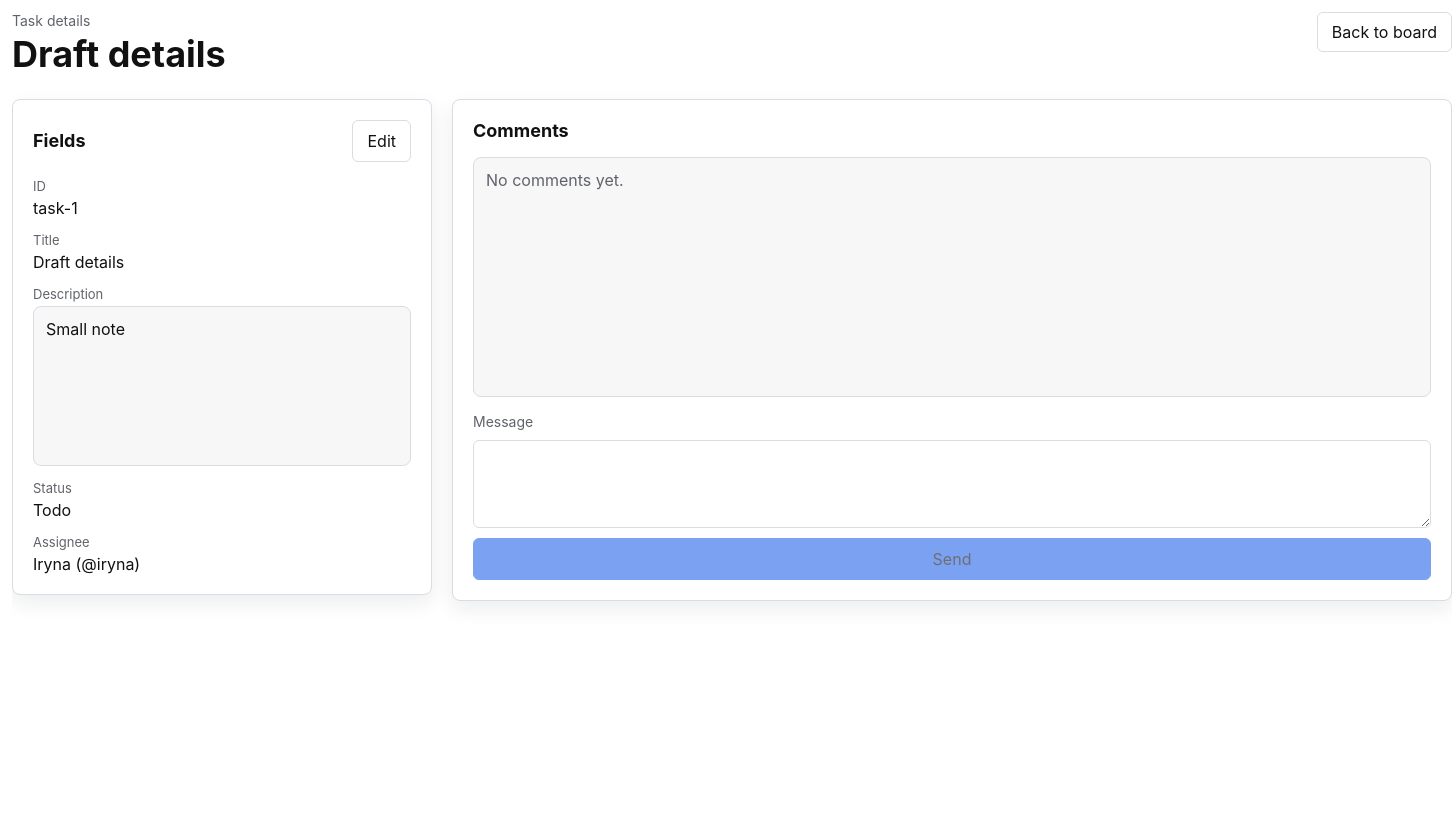
Test: a team member can edit title description and assignee from task details
Expected: the heading "Draft details" is shown, [12,35,226,75]
Click the button "Edit".
click(382, 141)  # box [352,120,411,162]
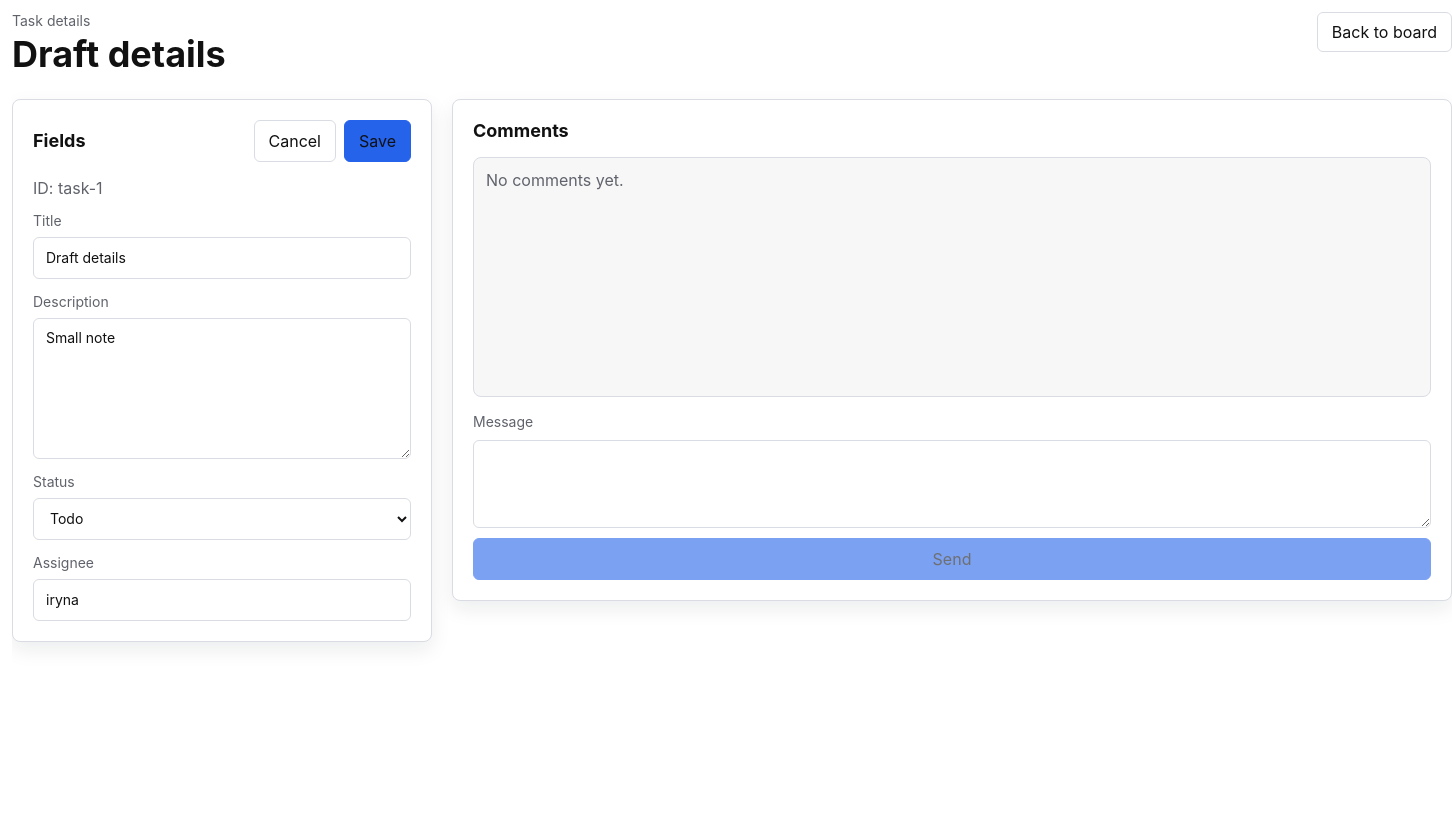
Replace the text in the field named "Edit title" with "Ready details" at [222, 258], box [33,237,411,279]
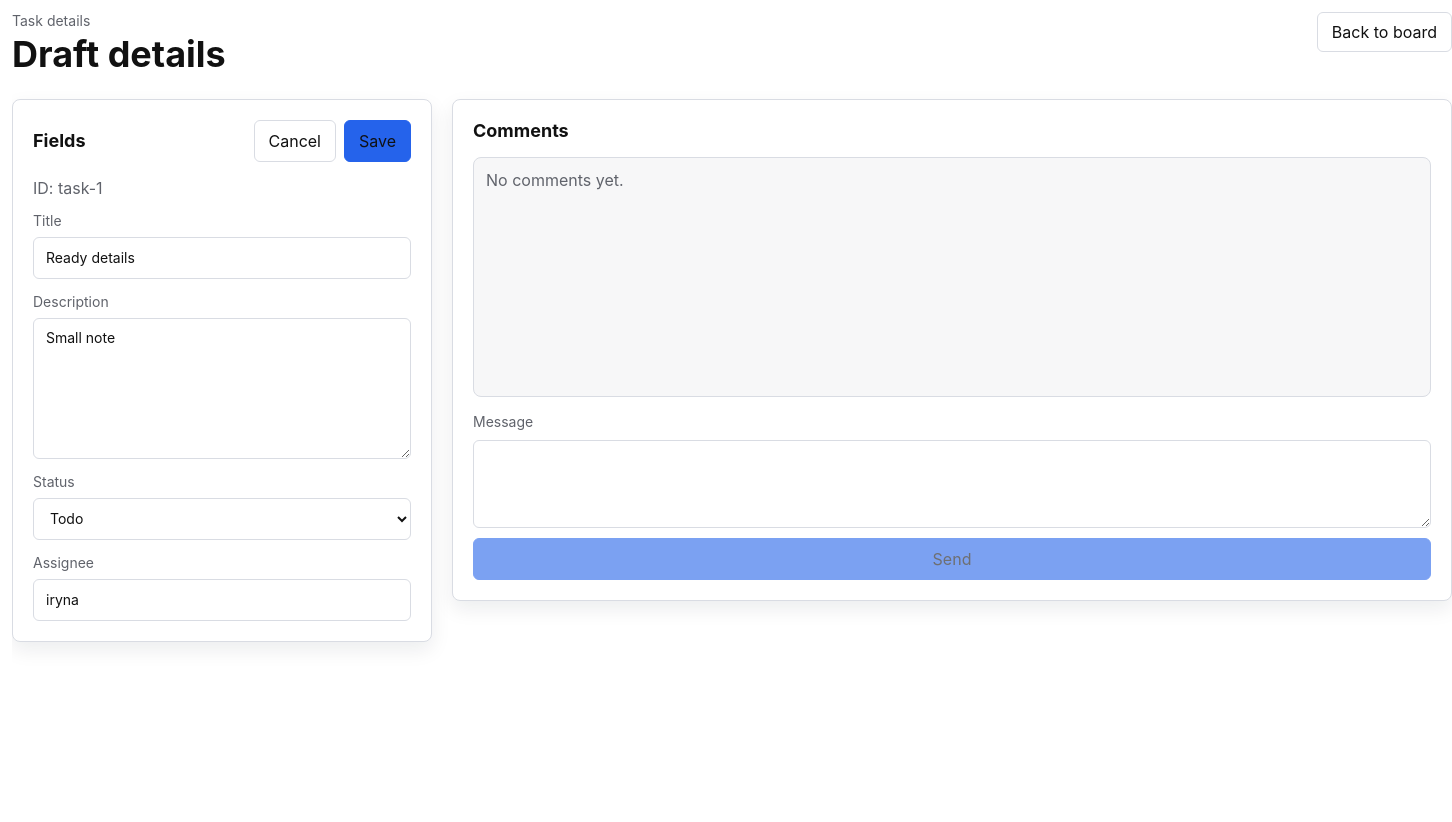
Replace the text in the text box named "Edit description" with "Longer edited description" at [222, 388], box [33,318,411,459]
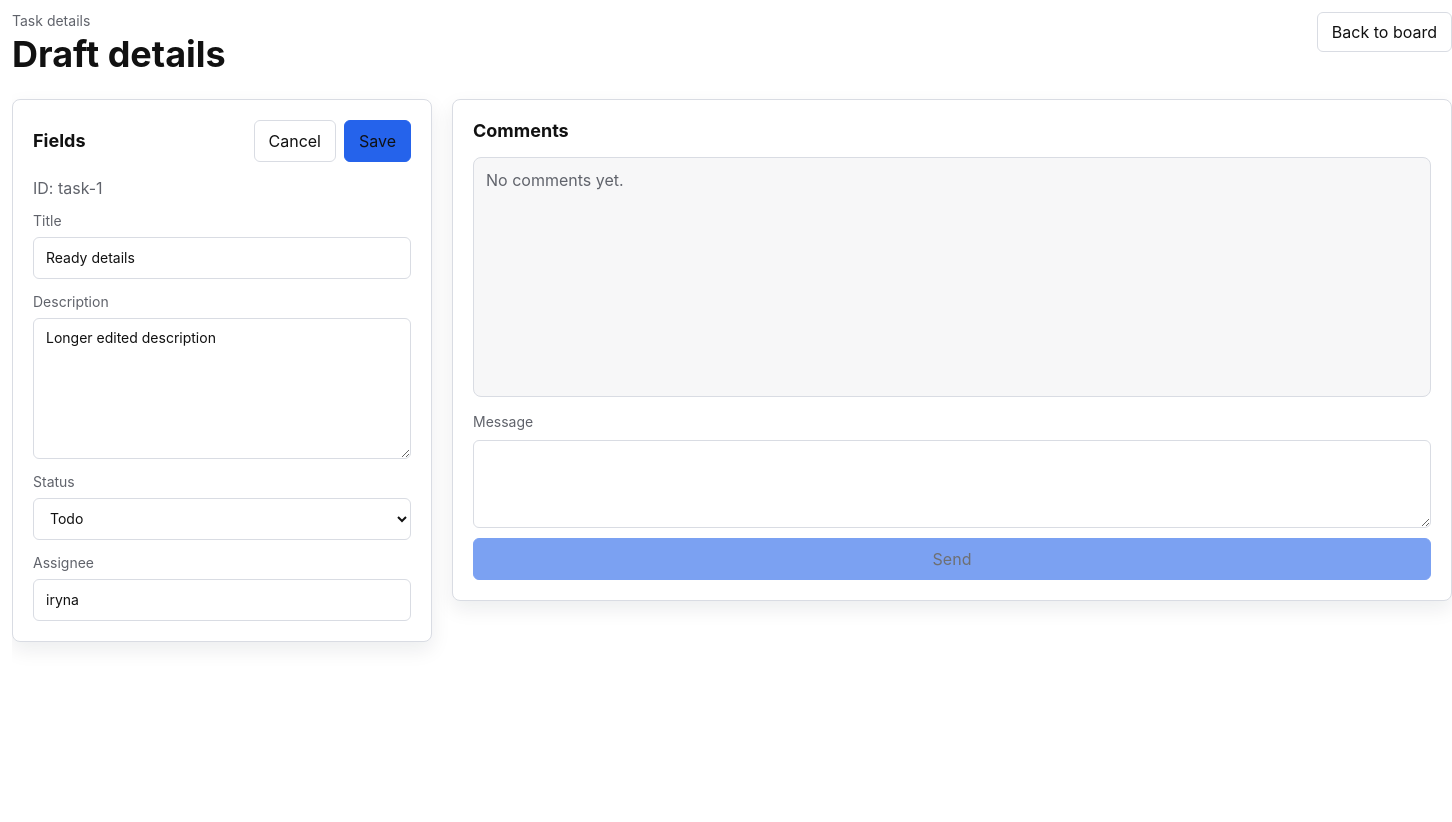
Select "In Progress" in the dropdown named "Edit status" at [222, 519], box [33,498,411,540]
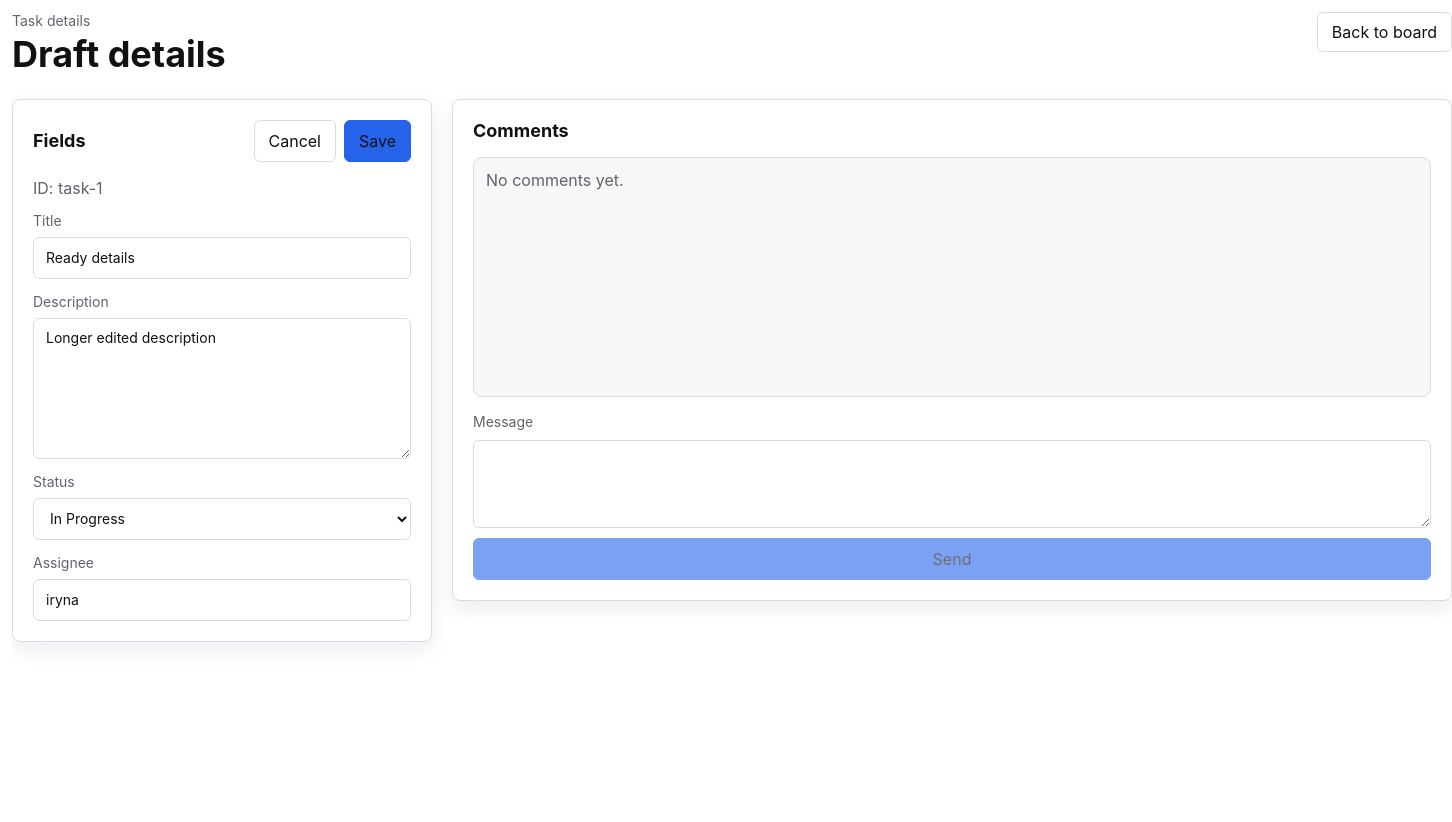
Replace the text in the field named "Edit assignee" with "maksym" at [222, 600], box [33,579,411,621]
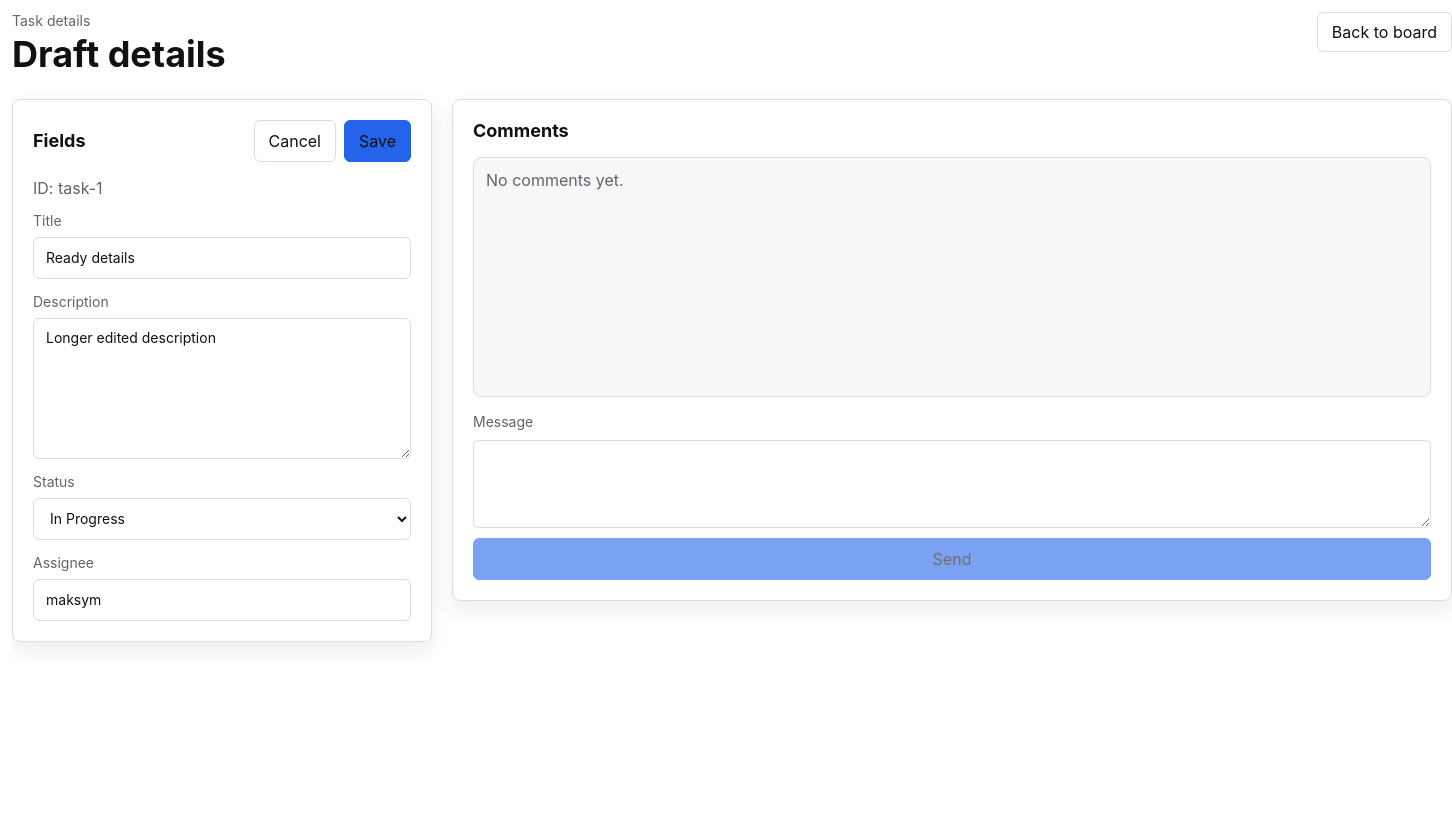
Click the button "Save".
click(378, 141)  # box [344,120,411,162]
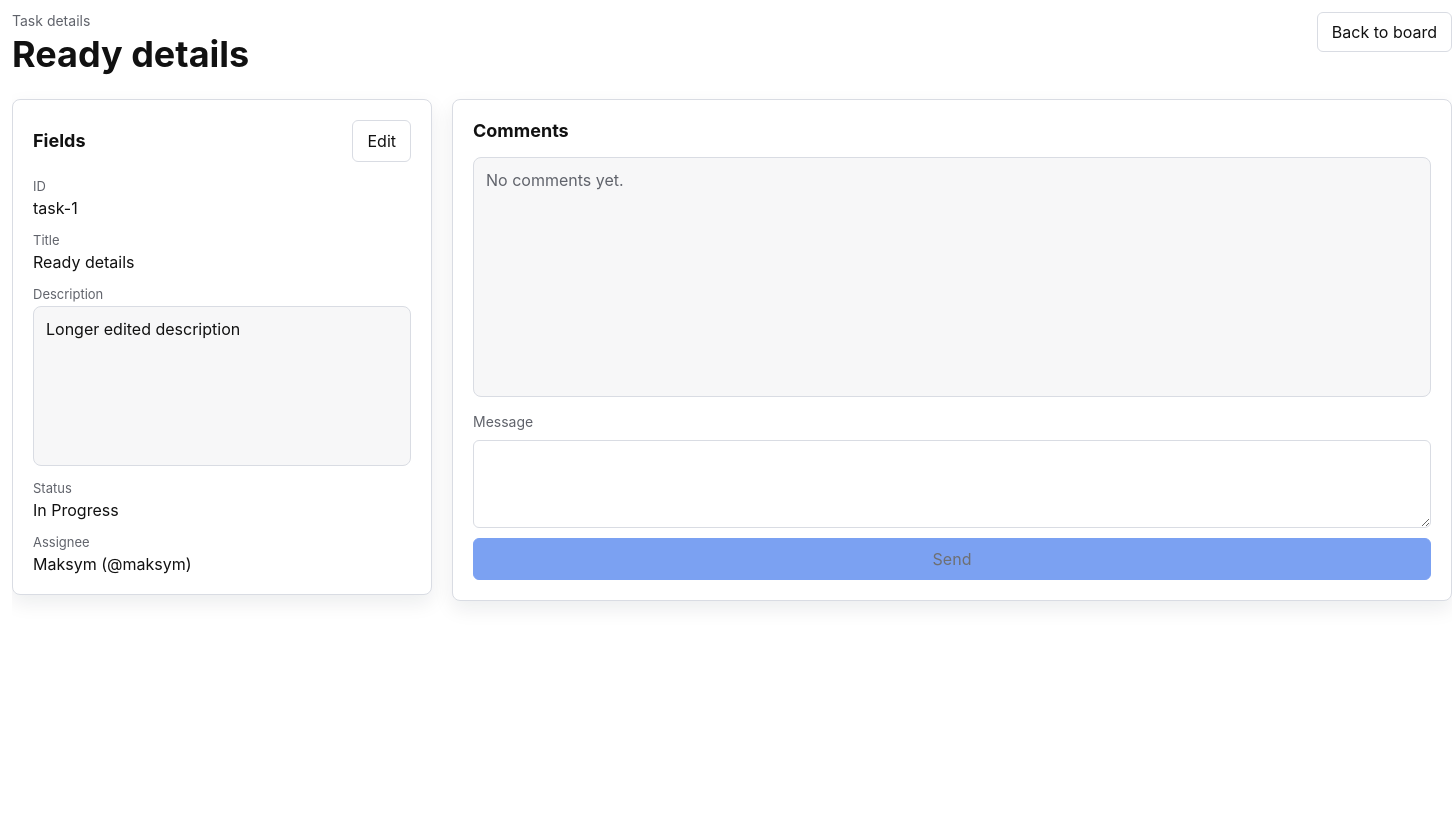
Expected: the heading "Ready details" is shown, [12,35,249,75]
Expected: the text "Longer edited description" is shown, [33,306,411,466]
Expected: the text "Maksym (@maksym)" is shown, [33,554,192,574]
